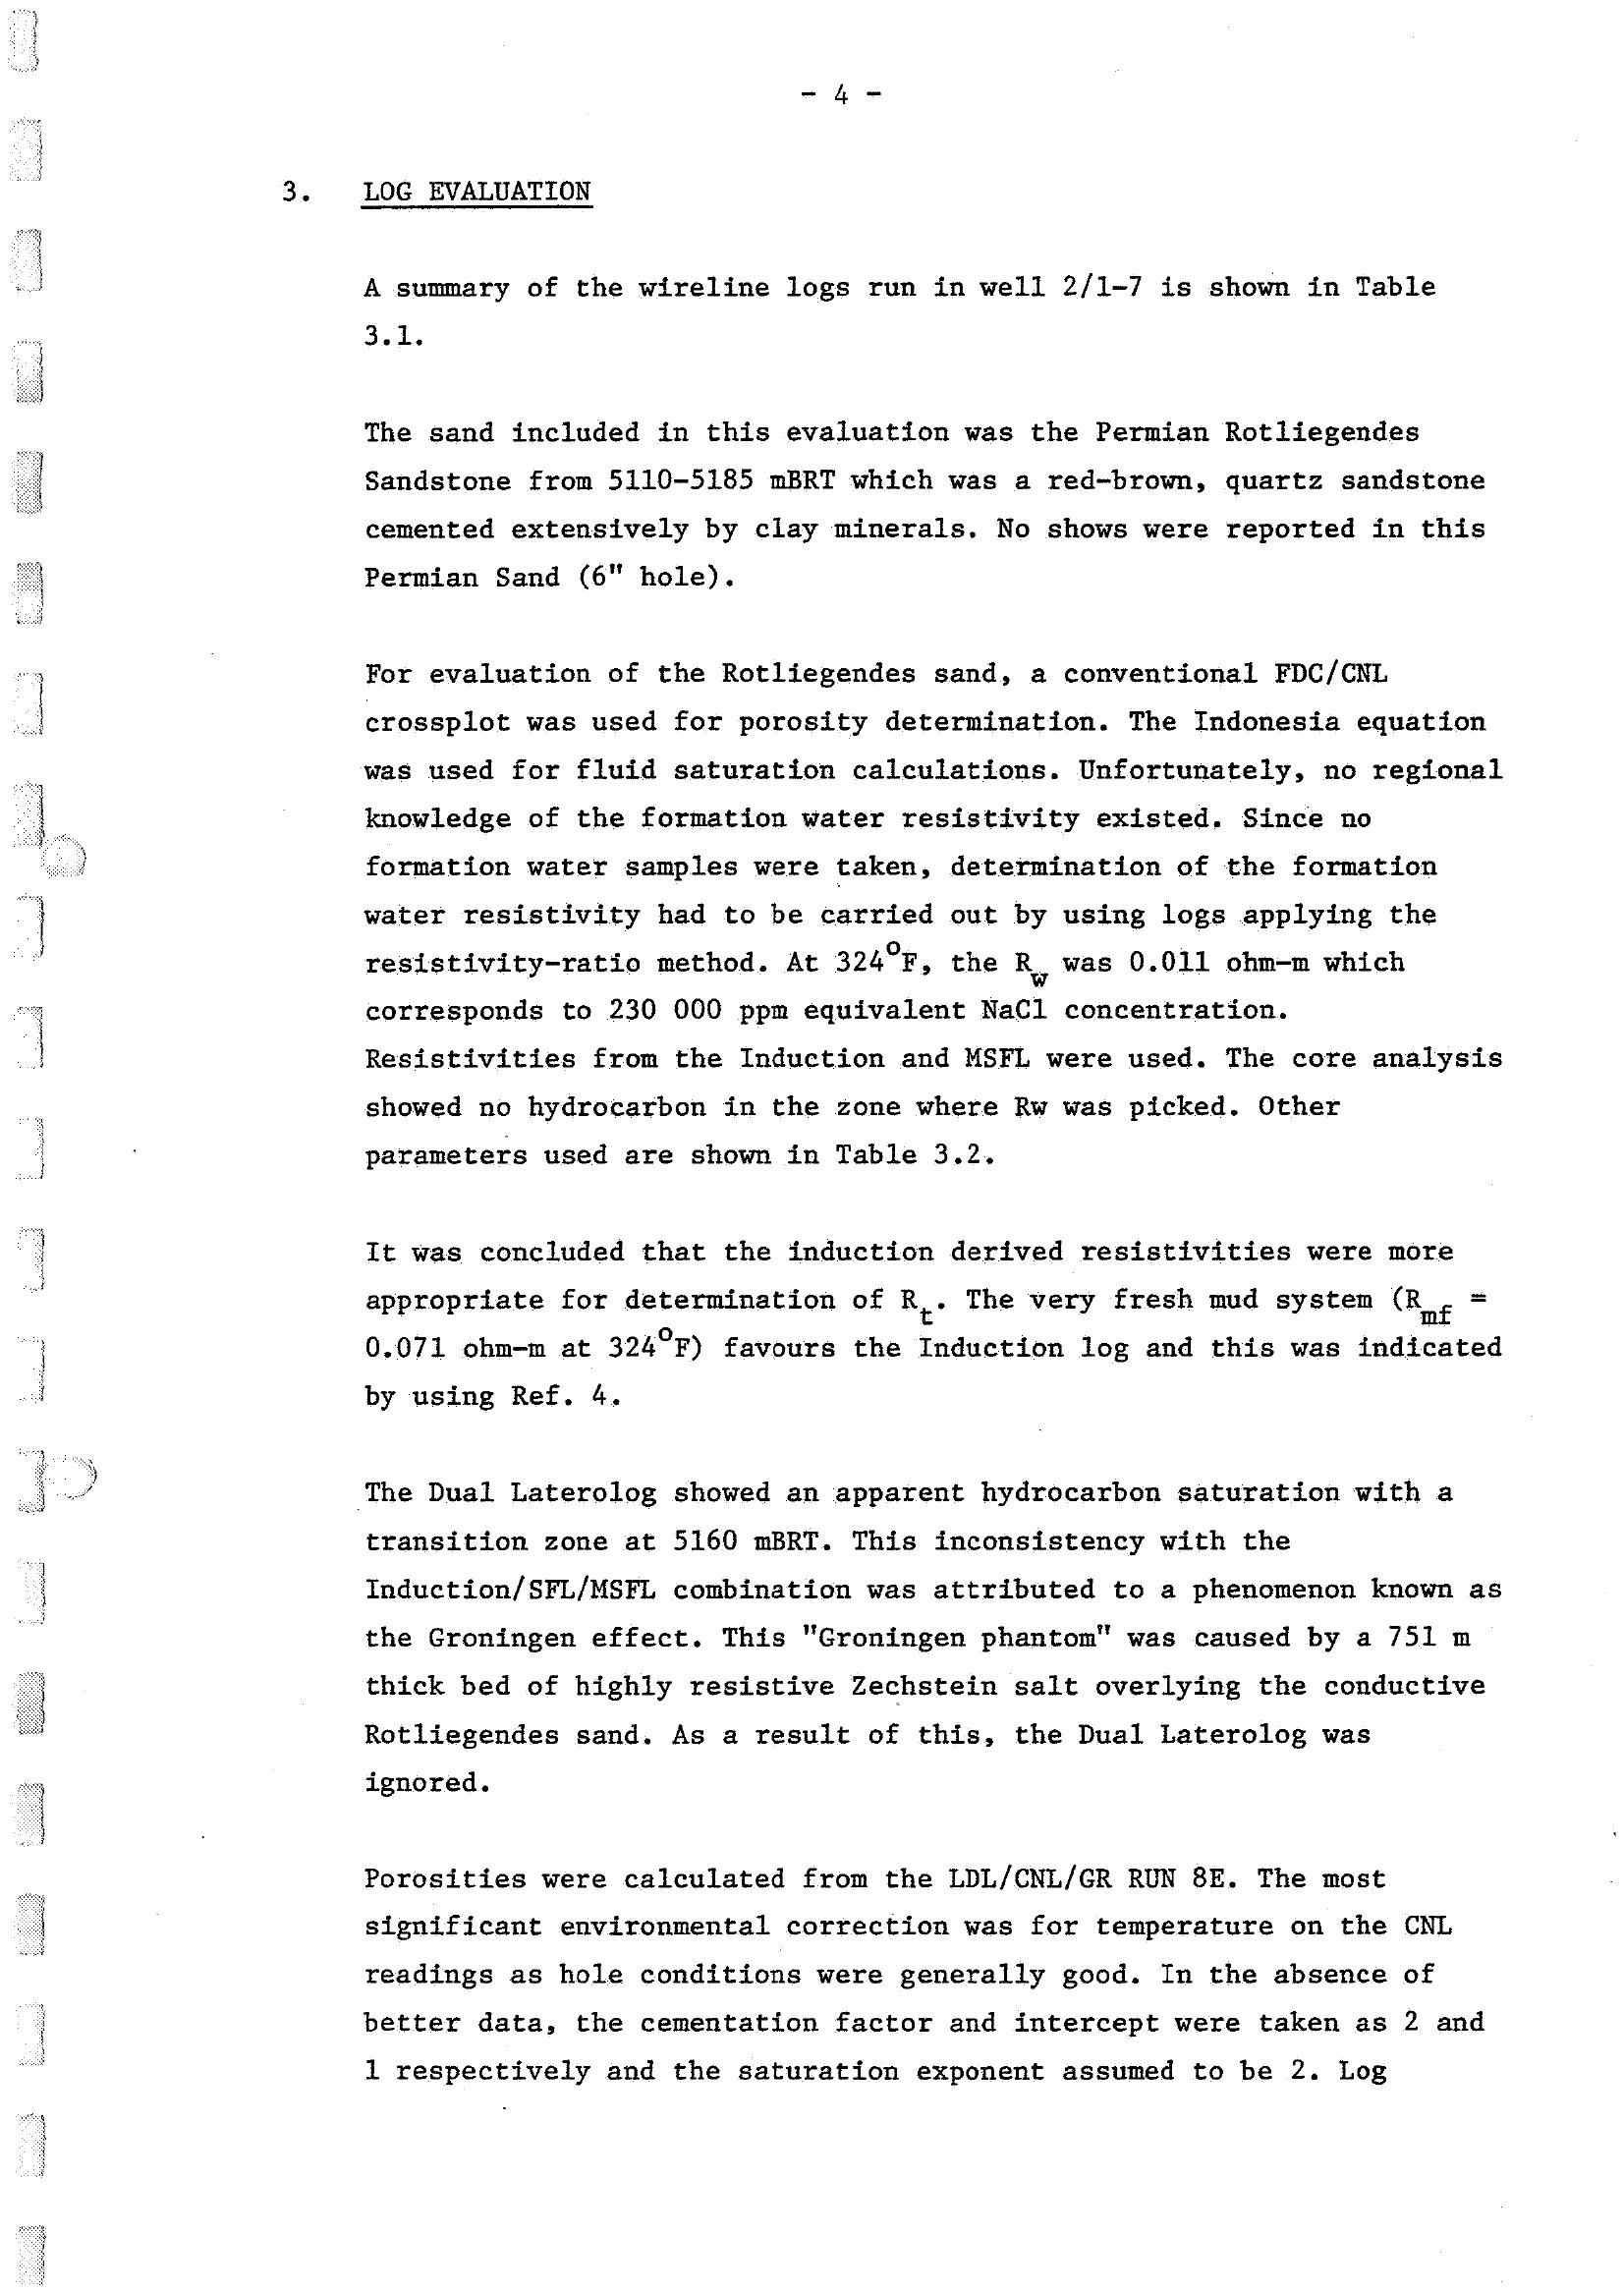text: (260, 149, 1541, 2154)
